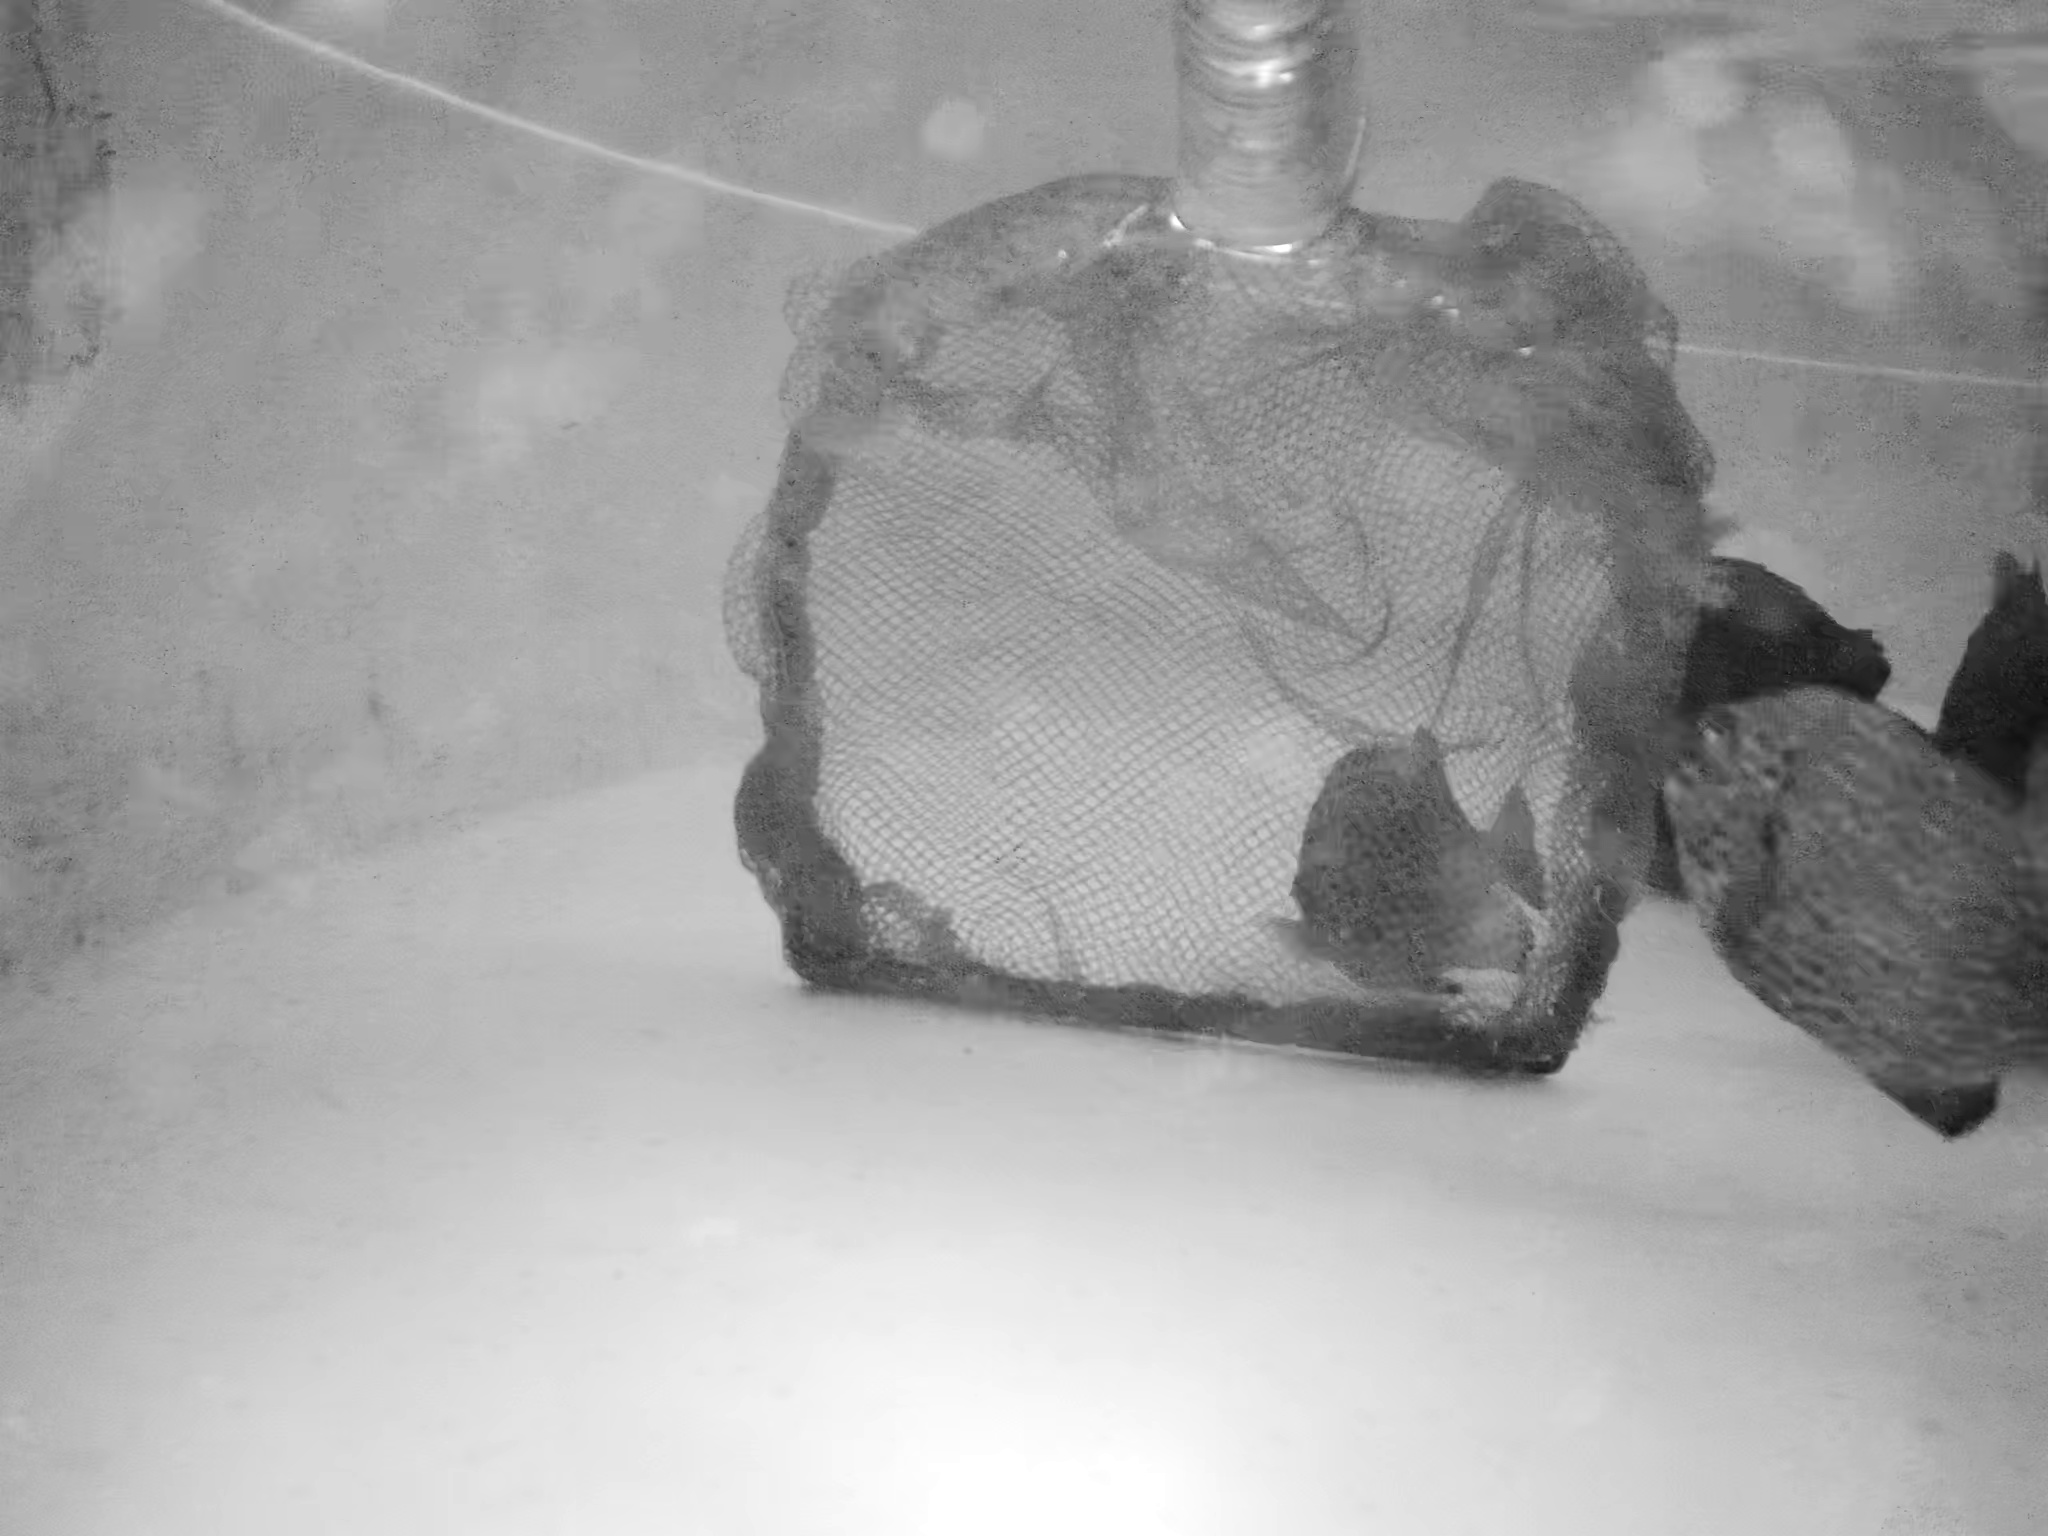fish: (1645, 666, 2048, 1133), (1266, 721, 1585, 1000)
